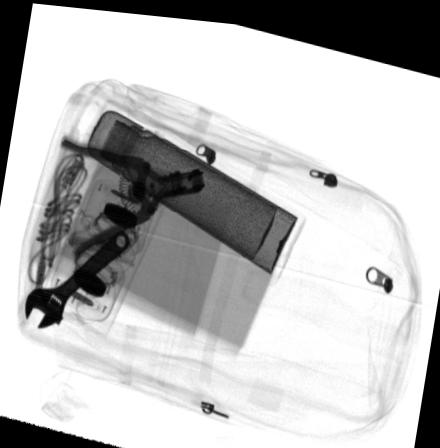Pliers: (59, 133, 209, 259)
Wrench: (24, 226, 130, 327)
